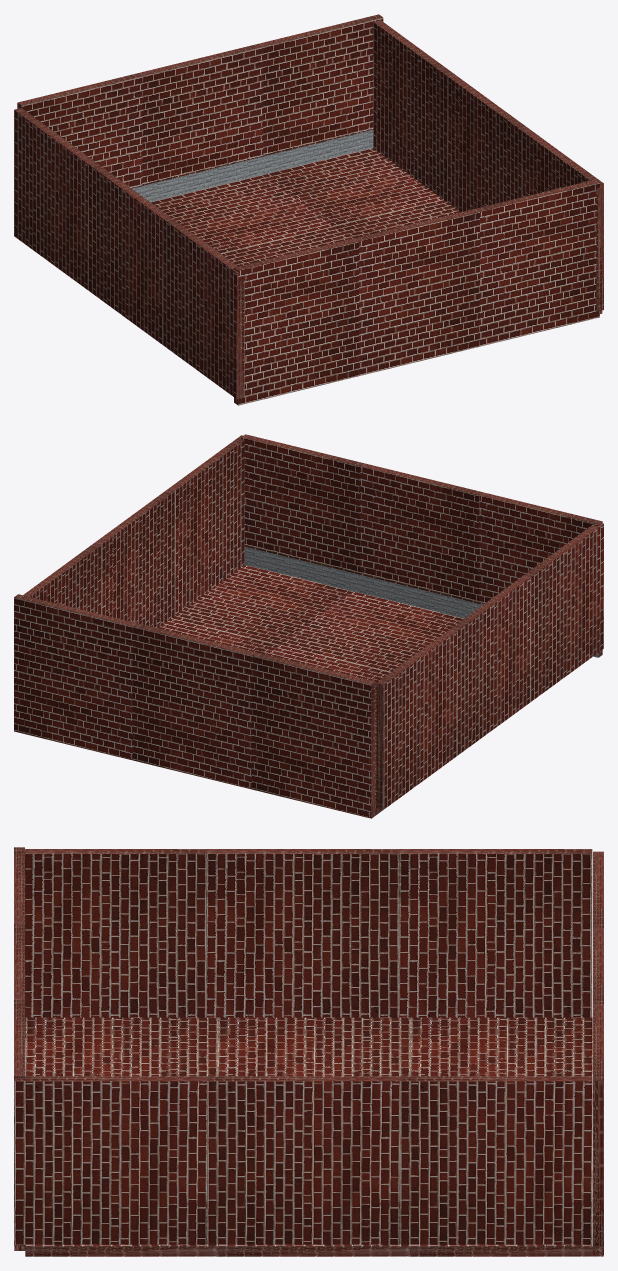
Rendered from basicstage5.FBX.
3 views of the same model, one above another, from view 1: azimuth 30°, elevation 25°; view 2: azimuth 150°, elevation 25°; view 3: azimuth 270°, elevation 25° (orthographic). The views are drawn at different scales.
Parts seen in each view (by area): view 1: Box010, Box012, Box011, Box019, Box021, Box015, Box013, Box014, Box018, Box016, Box020, Box002 (+4 smaller); view 2: Box020, Box019, Box021, Box010, Box012, Box014, Box013, Box015, Box017, Box016, Box007, Box009 (+4 smaller); view 3: Box014, Box018, Box013, Box016, Box017, Box015, Box008, Box003, Box004, Box021, Box006, Box009 (+6 smaller).
Part boxes in pixels (x1,y1,x2,y2): Box010: [355, 208, 479, 375]; Box012: [475, 179, 599, 346]; Box011: [234, 238, 358, 405]; Box019: [138, 43, 263, 202]; Box021: [259, 14, 383, 174]; Box015: [162, 217, 244, 399]; Box013: [88, 162, 169, 344]; Box014: [14, 108, 95, 289]; Box018: [373, 20, 454, 202]; Box016: [448, 74, 528, 211]; Box020: [17, 73, 142, 195]; Box002: [151, 175, 332, 253]; Box020: [252, 652, 375, 817]; Box019: [132, 623, 255, 788]; Box021: [14, 594, 136, 759]; Box010: [359, 463, 482, 618]; Box012: [241, 434, 364, 592]; Box014: [376, 629, 456, 809]; Box013: [450, 575, 530, 755]; Box015: [523, 523, 603, 701]; Box017: [168, 435, 244, 615]; Box016: [95, 489, 175, 627]; Box007: [280, 591, 463, 672]; Box009: [171, 565, 352, 644]; Box014: [399, 849, 592, 1017]; Box018: [399, 1076, 592, 1244]; Box013: [206, 849, 399, 1017]; Box016: [206, 1076, 399, 1244]; Box017: [14, 1076, 206, 1244]; Box015: [25, 849, 206, 1017]; Box008: [25, 1017, 218, 1076]; Box003: [218, 1017, 410, 1076]; Box004: [410, 1017, 592, 1093]; Box021: [593, 1004, 603, 1255]; Box006: [410, 1170, 603, 1256]; Box009: [25, 1244, 218, 1256].
Size of the model in its own units: 692 by 243 by 738.
